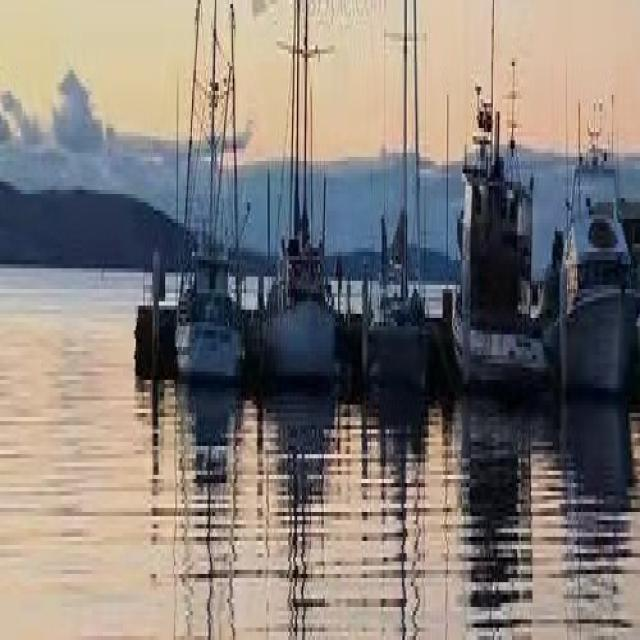fishing boat: (440, 17, 538, 411), (268, 6, 351, 376), (547, 56, 631, 421), (362, 13, 434, 383), (175, 28, 242, 372)
